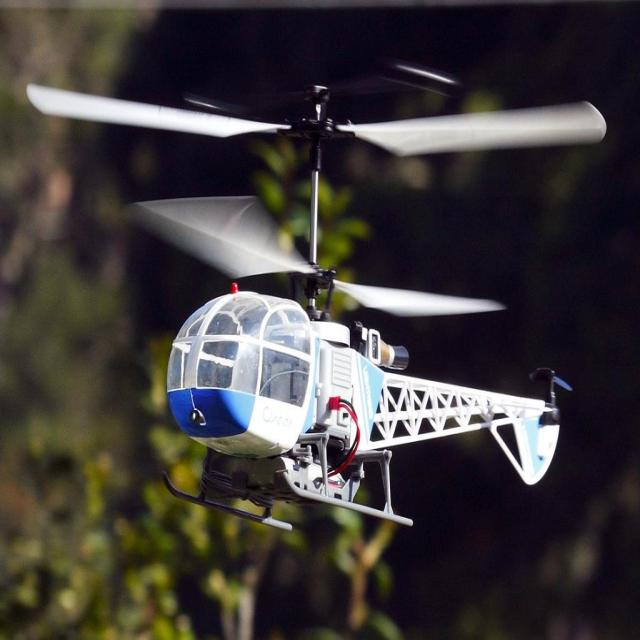Toy: (26, 56, 606, 530)
